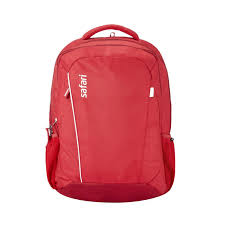backpack: (44, 23, 175, 202)
